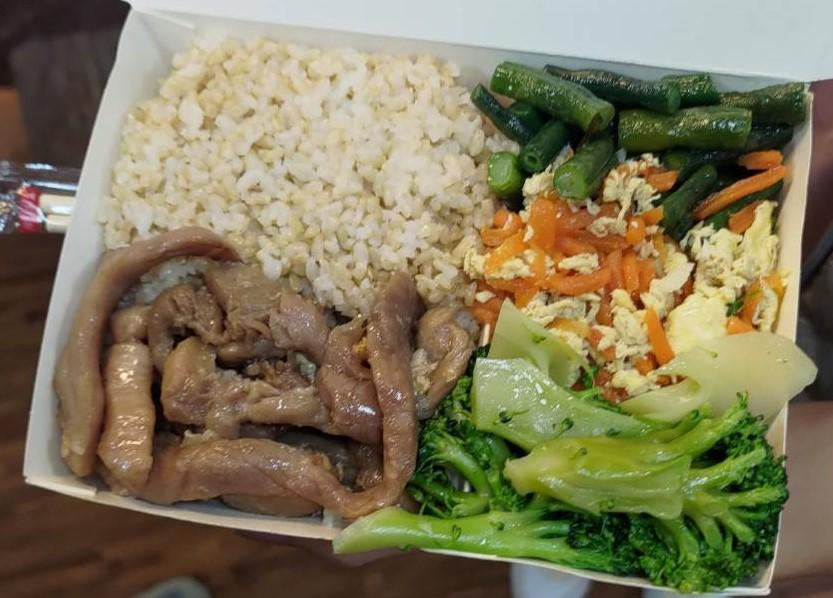big grilled chicken leg: (21, 4, 813, 598)
box: (113, 32, 499, 308)
braised fish fillet: (410, 332, 811, 588), (469, 180, 791, 376), (472, 58, 810, 218)
braised pork: (53, 225, 471, 514)
